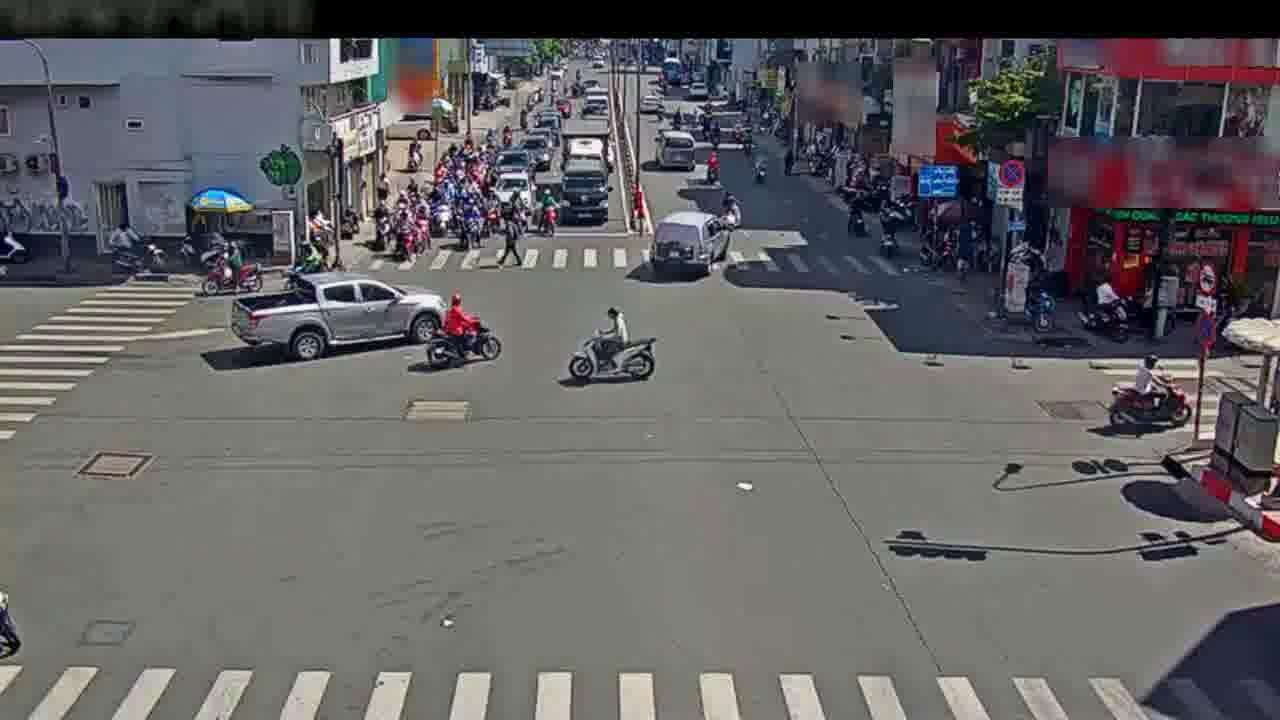container: (239, 271, 431, 357), (648, 209, 730, 279), (652, 128, 697, 178)
motorbike: (1104, 356, 1199, 436), (563, 307, 651, 389), (423, 298, 501, 369), (191, 245, 258, 299), (0, 574, 26, 670), (397, 206, 429, 264), (450, 197, 479, 254), (878, 206, 904, 264), (531, 188, 557, 244), (842, 190, 868, 243), (711, 191, 738, 235), (692, 156, 719, 193), (751, 147, 773, 190)
